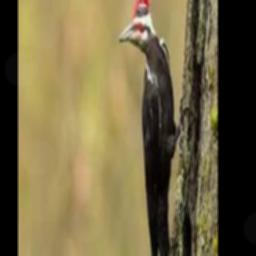Woodpecker: (119, 0, 191, 256)
